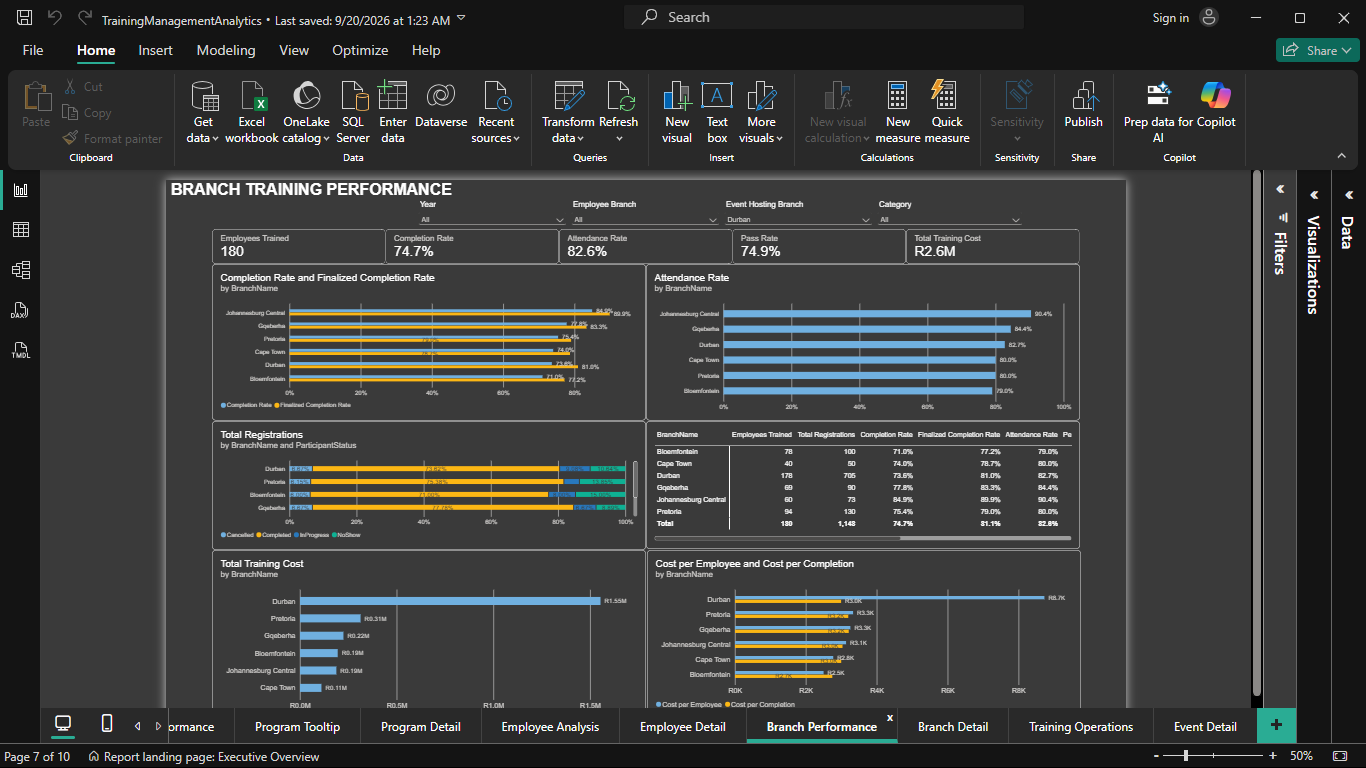

The page's visual inventory and layout, read from the dashboard file:
{"tool":"powerbi","page":{"name":"Branch Performance","canvas":[1920,1080],"ordinal":6},"visuals":[{"type":"textbox","box":[10,0,568,40],"z":0},{"type":"slicer","fields":{"Values":["DimDate.Year"]},"box":[500,40,306,58],"z":0,"group":"g1"},{"type":"slicer","fields":{"Values":["DimBranch.BranchName"]},"box":[806,40,306,58],"z":1000,"group":"g1"},{"type":"clusteredBarChart","fields":{"Category":["DimBranch.BranchName"],"Y":["FactTraining.Completion Rate","FactTraining.Finalized Completion Rate"]},"box":[92,168,868.3,313.3],"z":1000},{"type":"slicer","fields":{"Values":["DimHostingBranch.HostingBranchName"]},"box":[1112,40,306,58],"z":2000,"group":"g1"},{"type":"clusteredBarChart","fields":{"Category":["DimBranch.BranchName"],"Y":["FactTraining.Attendance Rate"]},"box":[960.3,168,868.3,313.3],"z":2000},{"type":"cardVisual","fields":{"Data":["FactTraining.Employees Trained","FactTraining.Completion Rate","FactTraining.Attendance Rate","FactTraining.Pass Rate","FactTraining.Total Training Cost"]},"box":[92.5,97.5,1735,70],"z":3000},{"type":"hundredPercentStackedBarChart","fields":{"Category":["DimBranch.BranchName"],"Series":["FactTraining.ParticipantStatus"],"Y":["FactTraining.Total Registrations"]},"box":[91.1,481.1,867.8,257.8],"z":4000},{"type":"pivotTable","fields":{"Rows":["DimBranch.BranchName"],"Values":["FactTraining.Employees Trained","FactTraining.Total Registrations","FactTraining.Completion Rate","FactTraining.Finalized Completion Rate","FactTraining.Attendance Rate","FactTraining.Pending Rate","FactTraining.Pass Rate","FactTraining.Training Hours per Employee","FactTraining.Cost per Employee"]},"box":[960,482,868,256],"z":5000},{"type":"clusteredBarChart","fields":{"Category":["DimBranch.BranchName"],"Y":["FactTraining.Total Training Cost"]},"box":[92,740,868,340],"z":6000},{"type":"clusteredBarChart","fields":{"Category":["DimBranch.BranchName"],"Y":["FactTraining.Cost per Employee","FactTraining.Cost per Completion"]},"box":[961.1,740,867.8,340],"z":7000},{"type":"slicer","fields":{"Values":["DimProgram.Category"]},"box":[1418,40,300,58],"z":7001,"group":"g1"},{"type":"group","id":"g1","title":"Group 1","box":[500,40,1218,58],"z":8000}]}

Visuals, with their boxes on the page's 1920x1080 design canvas (x1, y1, x2, y2). These are canvas units, not pixel positions in the 1366x768 screenshot, which may show the page scaled, cropped or inside an application window:
textbox: <region>10, 0, 578, 40</region>
slicer - DimDate.Year: <region>500, 40, 806, 98</region>
slicer - DimBranch.BranchName: <region>806, 40, 1112, 98</region>
clusteredBarChart - DimBranch.BranchName x FactTraining.Completion Rate: <region>92, 168, 960, 481</region>
slicer - DimHostingBranch.HostingBranchName: <region>1112, 40, 1418, 98</region>
clusteredBarChart - DimBranch.BranchName x FactTraining.Attendance Rate: <region>960, 168, 1829, 481</region>
cardVisual - FactTraining.Employees Trained x FactTraining.Completion Rate: <region>92, 98, 1828, 168</region>
hundredPercentStackedBarChart - DimBranch.BranchName x FactTraining.ParticipantStatus: <region>91, 481, 959, 739</region>
pivotTable - DimBranch.BranchName x FactTraining.Employees Trained: <region>960, 482, 1828, 738</region>
clusteredBarChart - DimBranch.BranchName x FactTraining.Total Training Cost: <region>92, 740, 960, 1080</region>
clusteredBarChart - DimBranch.BranchName x FactTraining.Cost per Employee: <region>961, 740, 1829, 1080</region>
slicer - DimProgram.Category: <region>1418, 40, 1718, 98</region>
"Group 1" group: <region>500, 40, 1718, 98</region>
